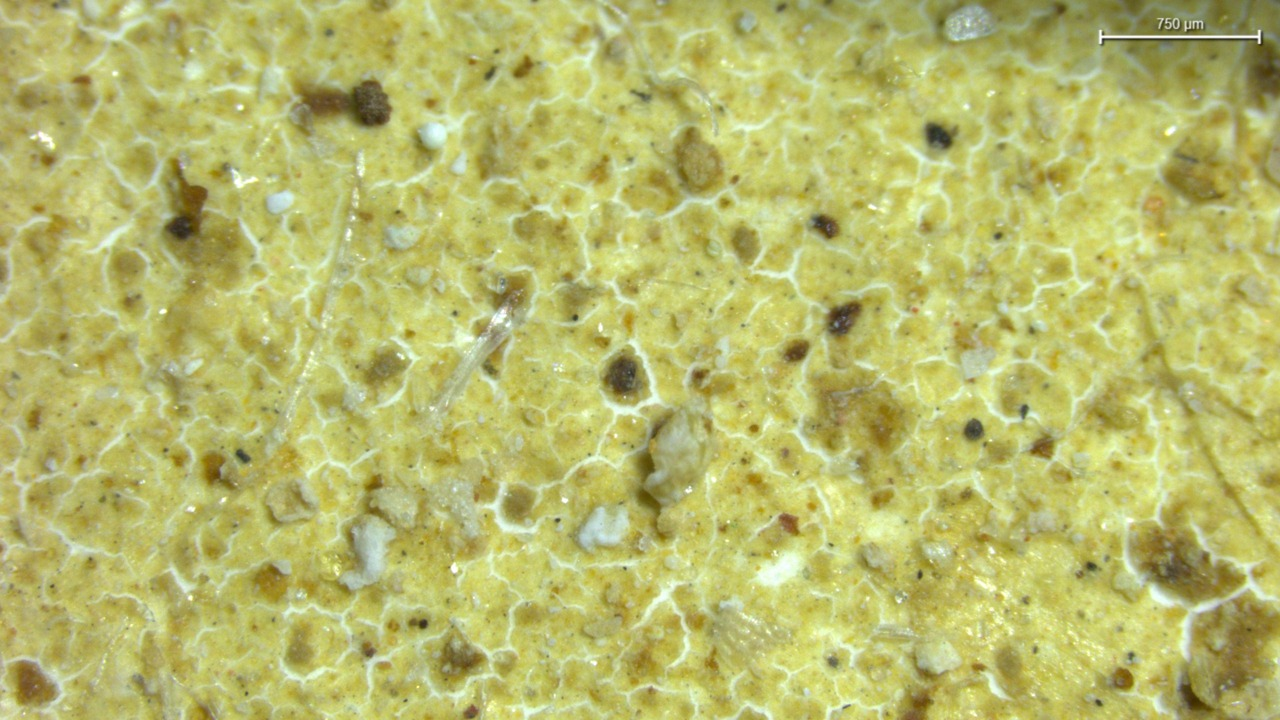microplastic_fragment: (644, 399, 714, 507), (339, 514, 396, 590)
